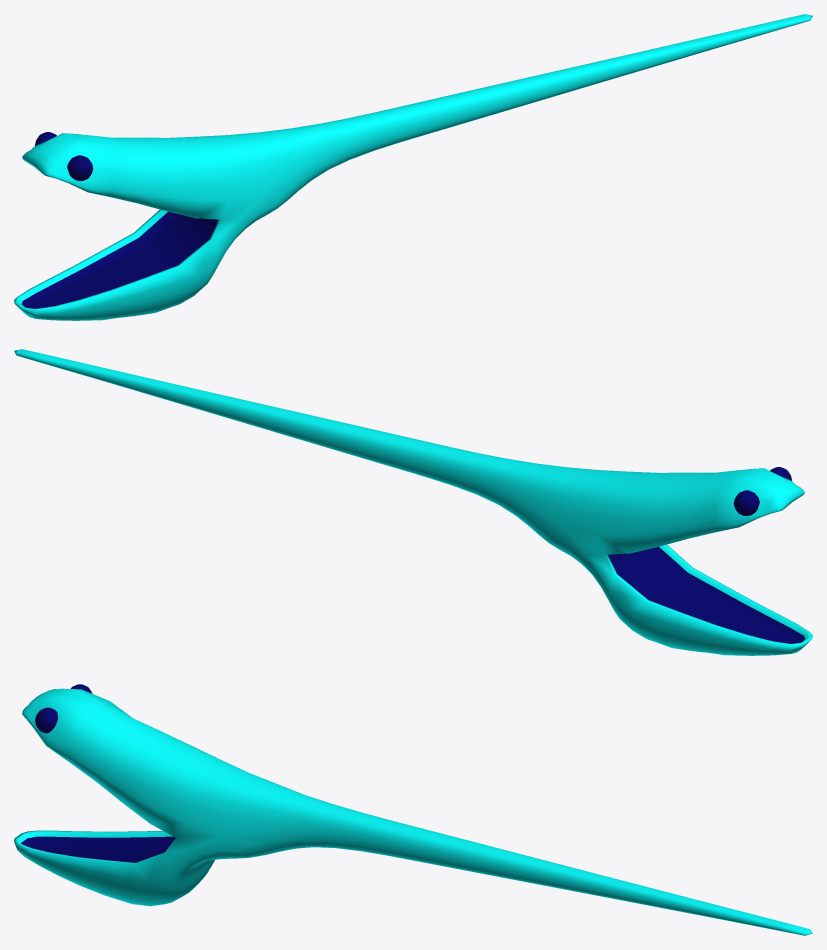
File: mesh_pelicanEel.fbx
3 views of the same model, one above another, from view 1: azimuth 30°, elevation 25°; view 2: azimuth 150°, elevation 25°; view 3: azimuth 330°, elevation 25° (orthographic).
Parts seen in each view (by area): view 1: PelicanEel; view 2: PelicanEel; view 3: PelicanEel.
Boxes of the visible parts, bbox=[...] form: PelicanEel: bbox=[14, 14, 812, 320]; PelicanEel: bbox=[14, 349, 812, 655]; PelicanEel: bbox=[14, 684, 812, 935].
Size of the model in its own units: 148 by 33.55 by 15.82.
